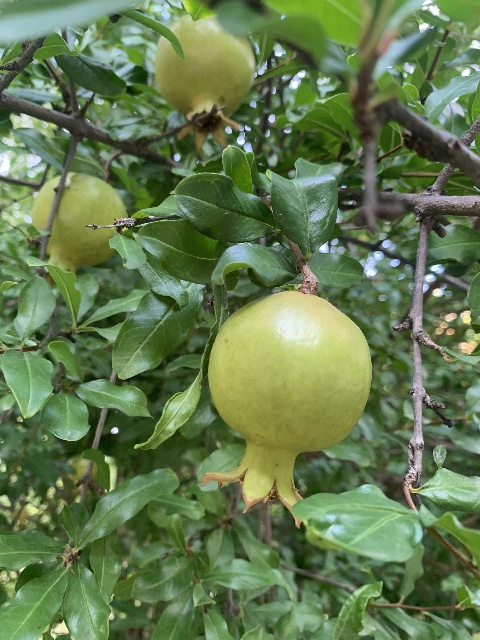mid-growth: (199, 291, 372, 524), (153, 13, 255, 154), (30, 172, 126, 282)
